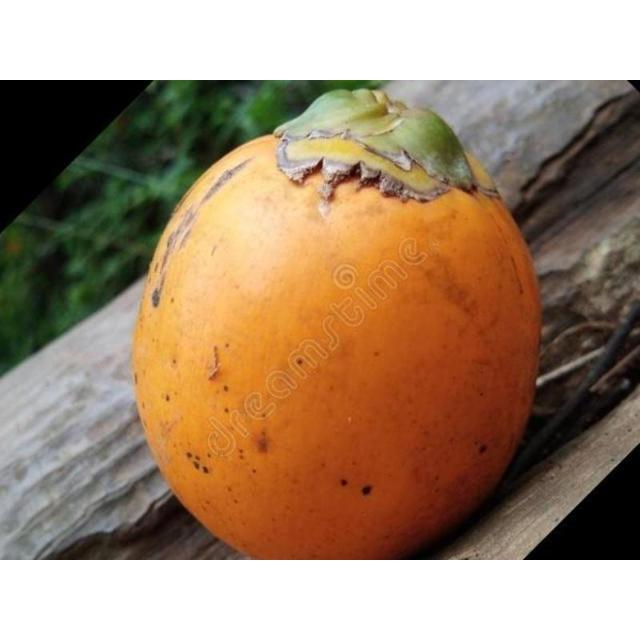good: (128, 90, 542, 559)
